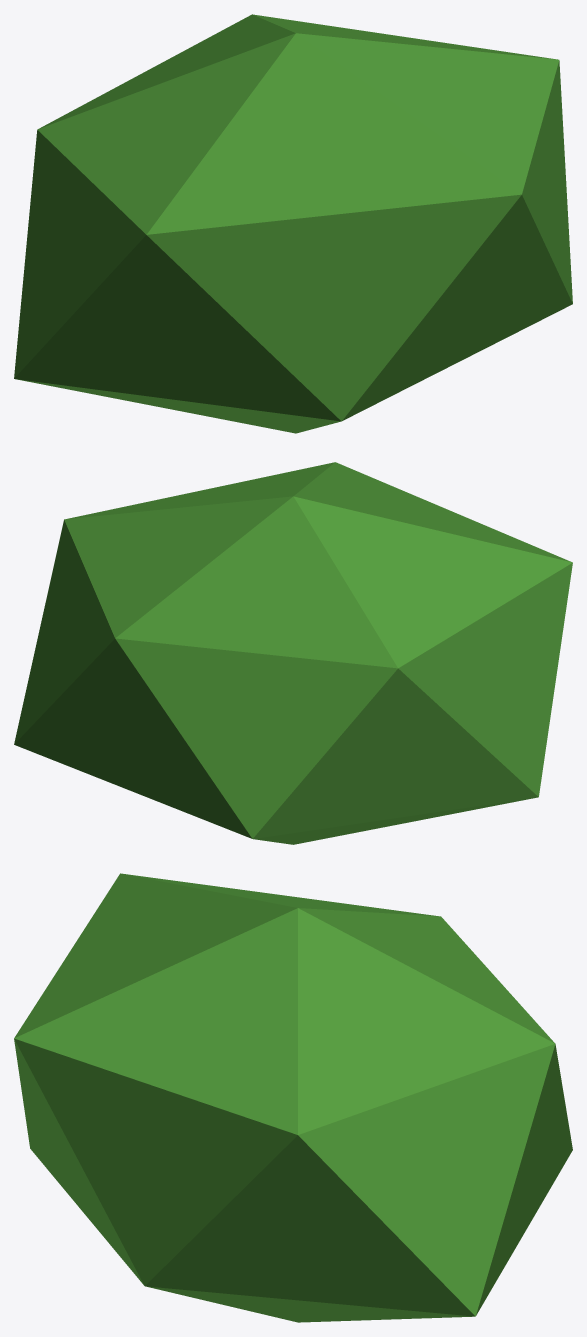
The model's file is Bush_A.fbx.
3 renders of one model, top to bottom at view 1: azimuth 30°, elevation 25°; view 2: azimuth 150°, elevation 25°; view 3: azimuth 270°, elevation 25°, orthographic. The views are drawn at different scales.
Visible parts, largest first — view 1: Bush_A; view 2: Bush_A; view 3: Bush_A.
Boxes of the visible parts, x1,y1,x2,y2 form: Bush_A: (14,14,572,433); Bush_A: (14,462,572,844); Bush_A: (14,873,572,1322).
Size of the model in its own units: 1167 by 819 by 1000.
